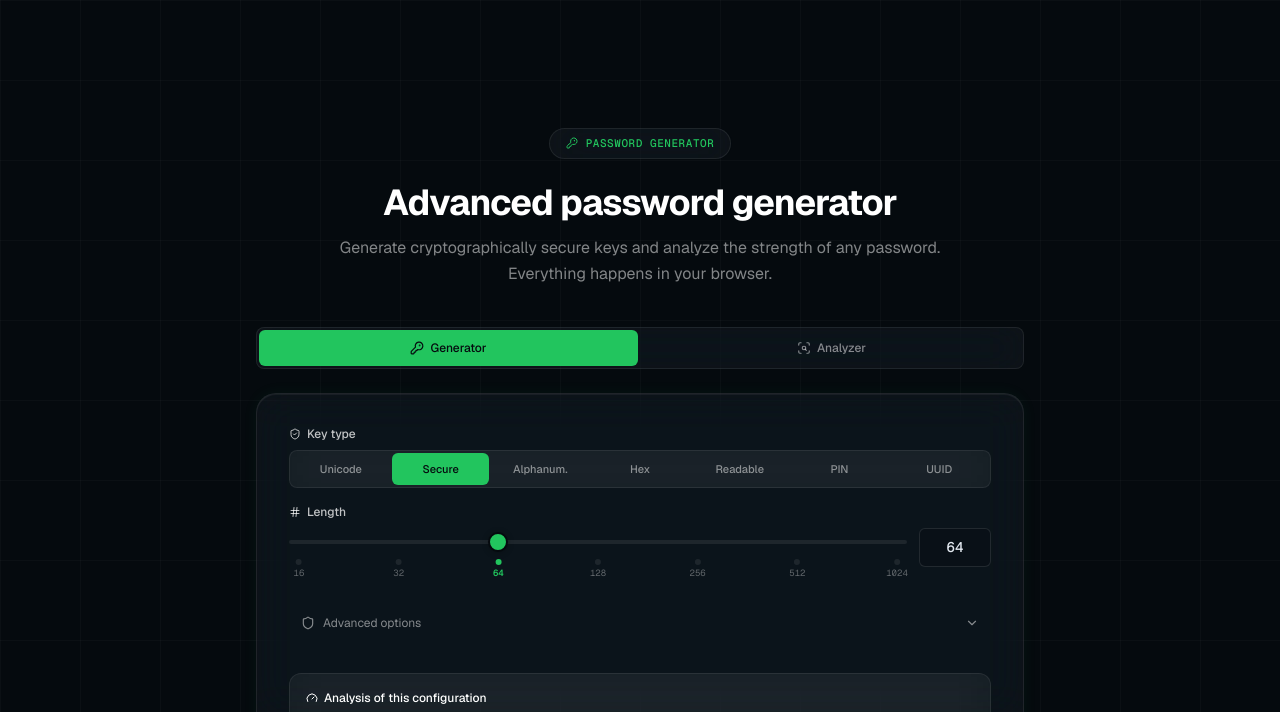
Test case: GeneratorContent — length and quantity controls › accepts a custom length, clamps it to 2048 and keeps the nearest stop marked
Replace the text in the number field named "Custom length (1–2048)" with "100" at (955, 548), box [919,528,991,567]
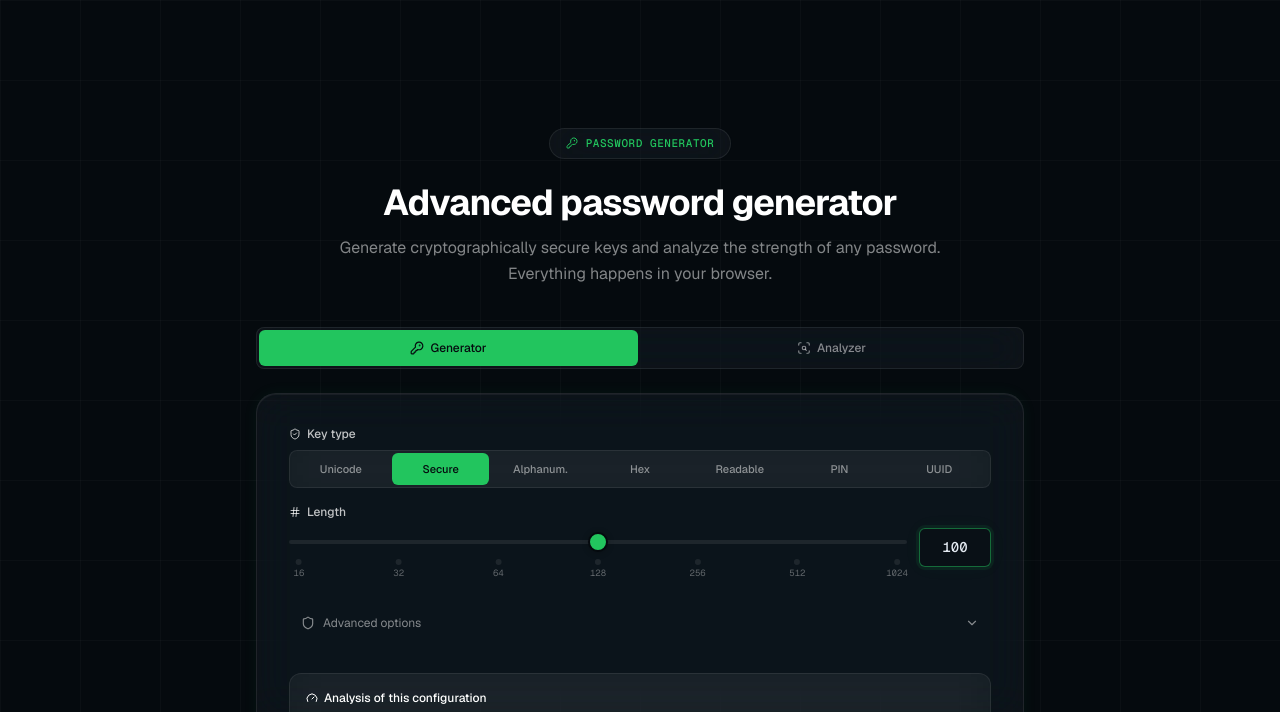
Expected: the number field named "Custom length (1–2048)" has class "theme-primary-border"
Expected: the slider labelled "Length" has attribute aria-valuetext="128", [289,528,907,556]
Replace the text in the number field named "Custom length (1–2048)" with "9999" at (955, 548), box [919,528,991,567]
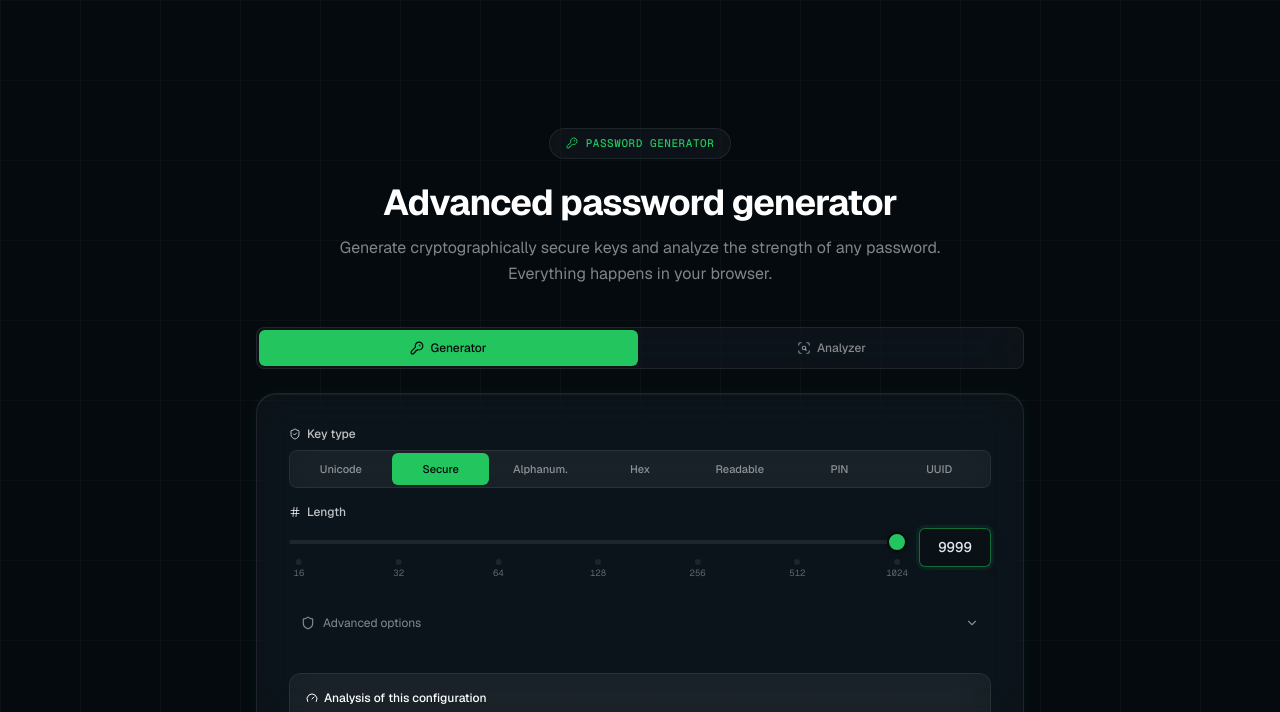
Note: Blurring drops the free-typing buffer and shows the persisted value again
Clear the number field named "Custom length (1–2048)" at (955, 548), box [919,528,991,567]
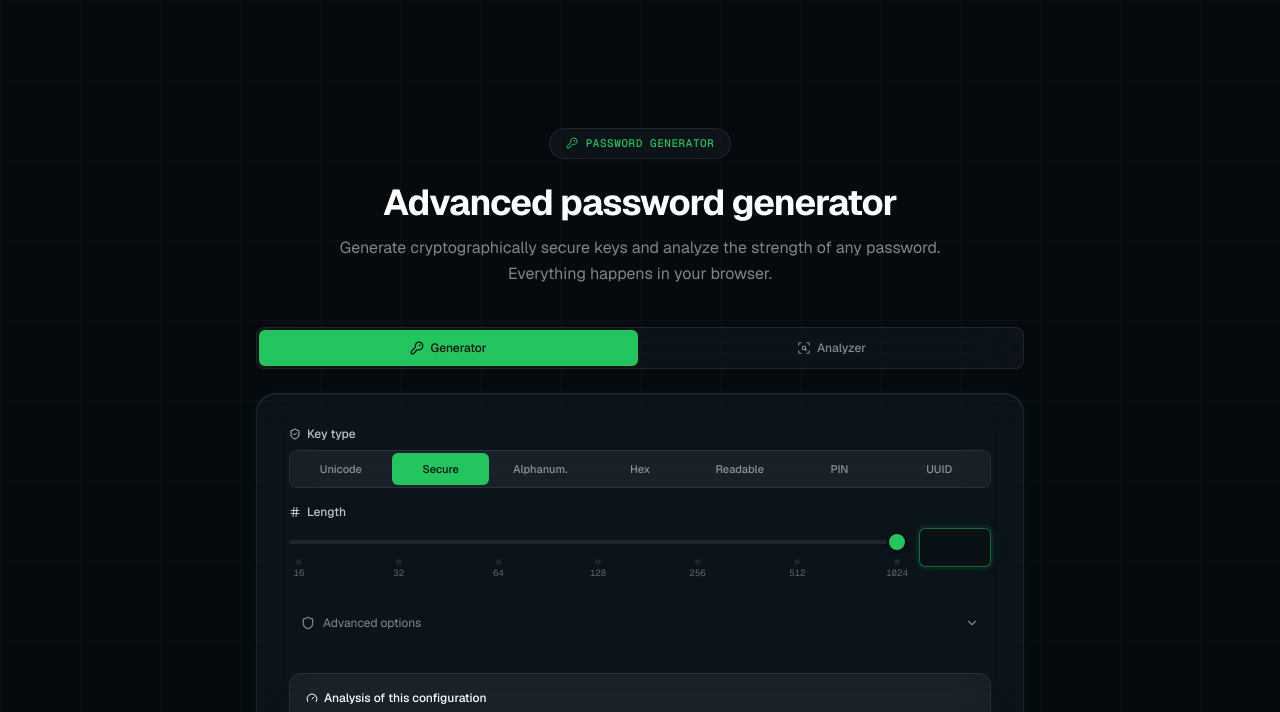
Leave the number field named "Custom length (1–2048)", box [919,528,991,567]
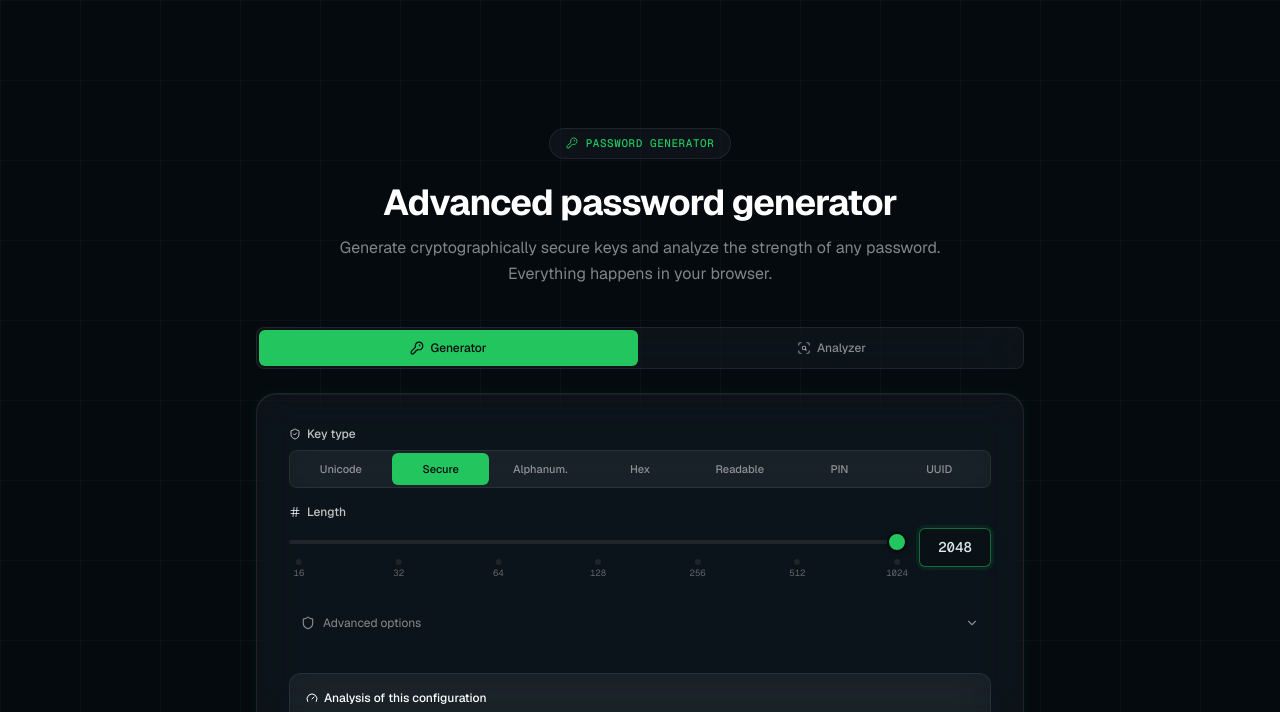
Expected: the number field named "Custom length (1–2048)" holds "2048", [919,528,991,567]
